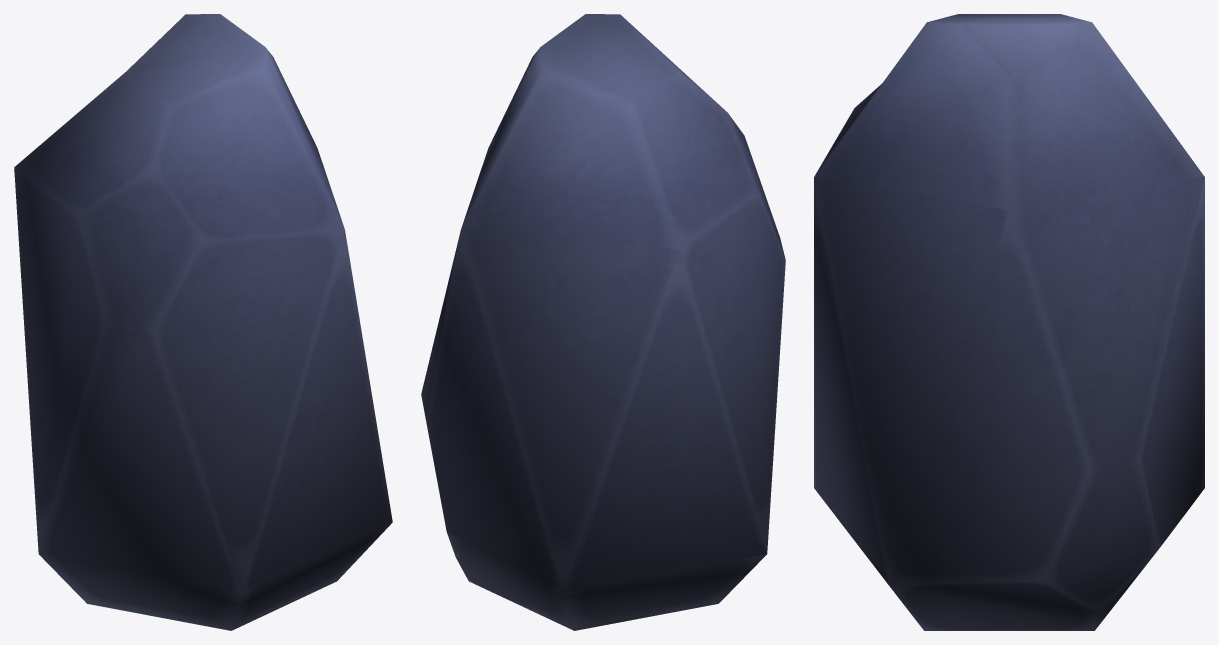
Rendered from splippy_rock_03.fbx.
3 views of the same model, side by side, from view 1: azimuth 30°, elevation 25°; view 2: azimuth 150°, elevation 25°; view 3: azimuth 270°, elevation 25° (orthographic). The views are drawn at different scales.
Parts seen in each view (by area): view 1: splippy_rock_03; view 2: splippy_rock_03; view 3: splippy_rock_03.
Boxes of the visible parts, x1,y1,x2,y2 form: splippy_rock_03: (14,14,392,630); splippy_rock_03: (421,14,785,630); splippy_rock_03: (814,14,1204,630).
Size of the model in its own units: 49.01 by 79.62 by 48.81.
Materials: 1 (1 with a texture image).
